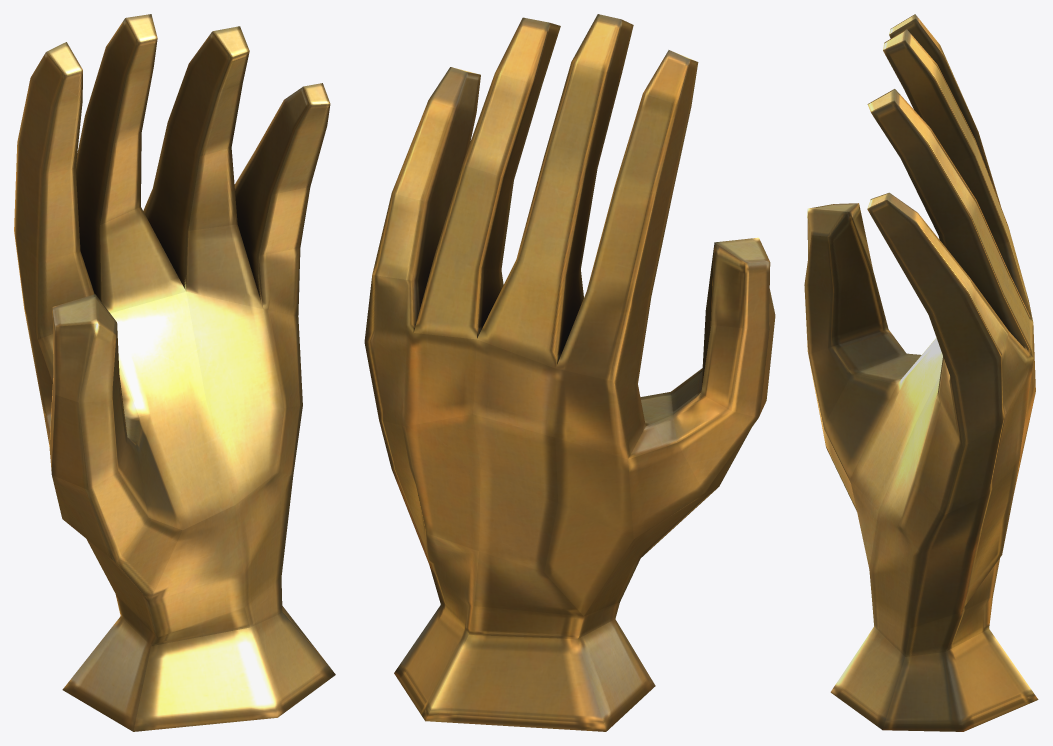
3 views of the same model, side by side, from view 1: azimuth 30°, elevation 25°; view 2: azimuth 150°, elevation 25°; view 3: azimuth 270°, elevation 25° (orthographic). The views are drawn at different scales.
Visible parts, largest first — view 1: M_LeftHandStatue_0; view 2: M_LeftHandStatue_0; view 3: M_LeftHandStatue_0.
Boxes of the visible parts, <box> form: M_LeftHandStatue_0: <box>14,14,335,731</box>; M_LeftHandStatue_0: <box>364,14,775,731</box>; M_LeftHandStatue_0: <box>804,14,1038,731</box>.
Size of the model in its own units: 0.9663 by 2 by 0.6888.
Materials: 1 (1 with a texture image).
